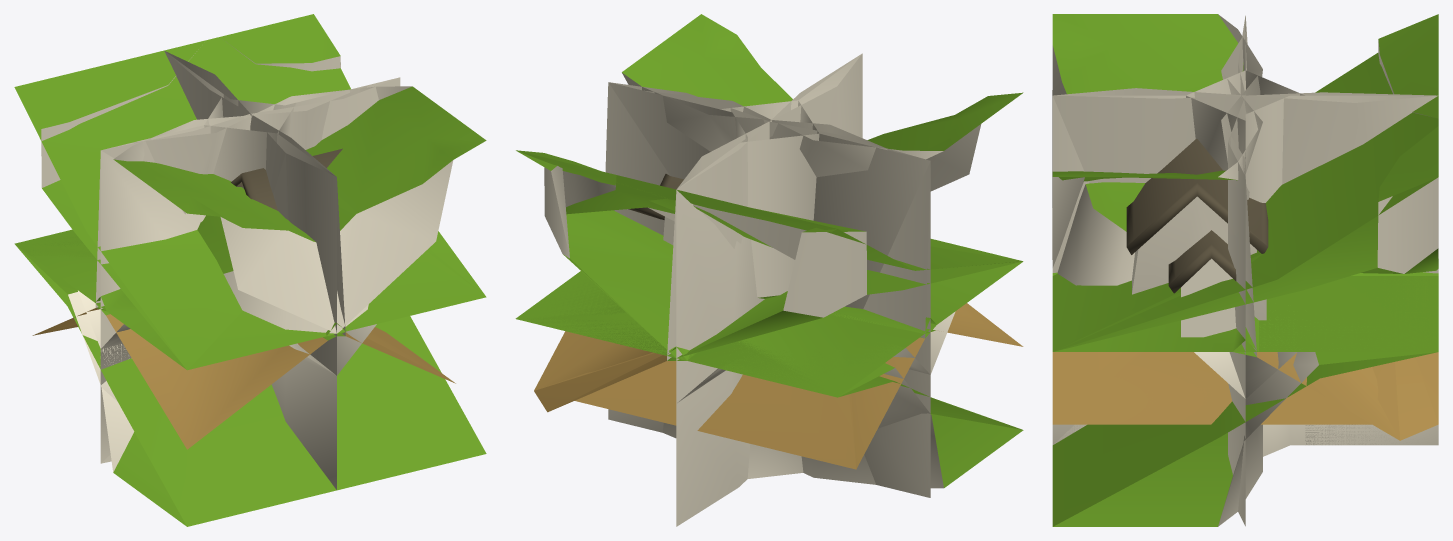
File: wfc_complex.glb
3 renders of one model, left to right at view 1: azimuth 30°, elevation 25°; view 2: azimuth 150°, elevation 25°; view 3: azimuth 270°, elevation 25°, orthographic. The views are drawn at different scales.
Visible parts, largest first — view 1: wfc_module_17, wfc_module_24, wfc_module_19, wfc_module_21, wfc_module_23, wfc_module_22, wfc_module_35, wfc_module_12, wfc_module_1, wfc_module_8, wfc_module_28, wfc_module_18 (+13 smaller); view 2: wfc_module_22, wfc_module_29, wfc_module_35, wfc_module_24, wfc_module_26, wfc_module_7, wfc_module_37, wfc_module_23, wfc_module_11, wfc_module_8, wfc_module_12, wfc_module_21 (+20 smaller); view 3: wfc_module_23, wfc_module_33, wfc_module_28, wfc_module_27, wfc_module_19, wfc_module_17, wfc_module_21, wfc_module_0, wfc_module_4, wfc_module_8, wfc_module_20, wfc_module_6 (+17 smaller).
Boxes of the visible parts, bbox=[...] form: wfc_module_17: bbox=[16, 245, 486, 526]; wfc_module_24: bbox=[101, 86, 486, 369]; wfc_module_19: bbox=[15, 37, 350, 369]; wfc_module_21: bbox=[14, 40, 486, 369]; wfc_module_23: bbox=[113, 85, 368, 333]; wfc_module_22: bbox=[26, 62, 345, 449]; wfc_module_35: bbox=[100, 52, 299, 345]; wfc_module_12: bbox=[164, 51, 346, 330]; wfc_module_1: bbox=[104, 309, 336, 489]; wfc_module_8: bbox=[108, 14, 484, 370]; wfc_module_28: bbox=[204, 125, 455, 383]; wfc_module_18: bbox=[101, 388, 186, 526]; wfc_module_22: bbox=[517, 151, 1023, 392]; wfc_module_29: bbox=[574, 82, 930, 469]; wfc_module_35: bbox=[676, 143, 764, 526]; wfc_module_24: bbox=[622, 14, 1022, 324]; wfc_module_26: bbox=[798, 101, 930, 497]; wfc_module_7: bbox=[518, 227, 866, 357]; wfc_module_37: bbox=[534, 82, 676, 410]; wfc_module_23: bbox=[644, 90, 1023, 191]; wfc_module_11: bbox=[740, 133, 936, 324]; wfc_module_8: bbox=[516, 150, 1021, 270]; wfc_module_12: bbox=[516, 53, 862, 354]; wfc_module_21: bbox=[516, 150, 1022, 294]; wfc_module_23: bbox=[1052, 14, 1262, 351]; wfc_module_33: bbox=[1053, 95, 1437, 184]; wfc_module_28: bbox=[1052, 96, 1371, 424]; wfc_module_27: bbox=[1126, 139, 1438, 347]; wfc_module_19: bbox=[1250, 53, 1438, 279]; wfc_module_17: bbox=[1052, 352, 1436, 526]; wfc_module_21: bbox=[1052, 14, 1438, 351]; wfc_module_0: bbox=[1233, 276, 1438, 351]; wfc_module_4: bbox=[1053, 433, 1242, 526]; wfc_module_8: bbox=[1054, 126, 1438, 351]; wfc_module_20: bbox=[1218, 276, 1437, 526]; wfc_module_6: bbox=[1245, 276, 1438, 398].
Bounding box in the file's own units: 1 × 1 × 1.
